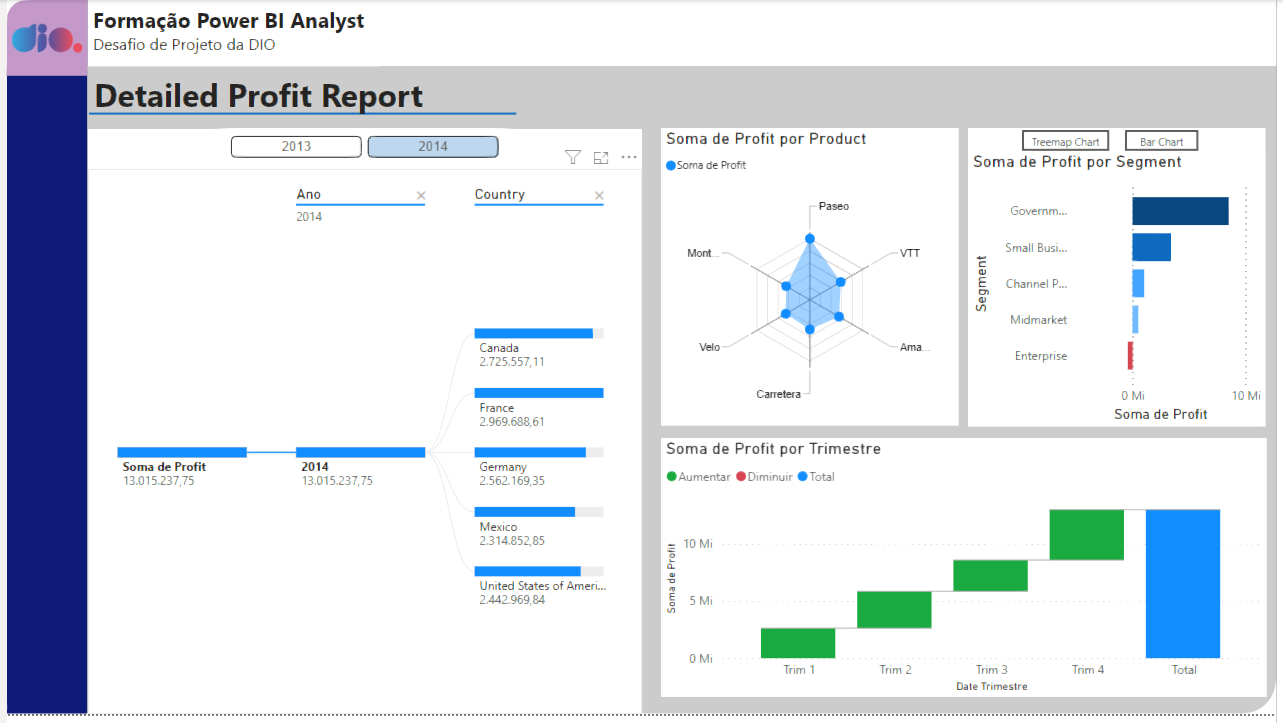

The dashboard page shown, as its layout file describes it:
{"tool":"powerbi","page":{"name":"Página 2","canvas":[1280,720],"ordinal":1},"visuals":[{"type":"shape","title":"Tela cinza de fundo","box":[0,0,1280,720],"z":0},{"type":"shape","box":[0,0,81.5,720],"z":1000},{"type":"shape","box":[0,0,81.5,76.6],"z":2000},{"type":"image","box":[0,0,81.5,76.6],"z":3000},{"type":"shape","box":[81.5,0,1198.5,66.7],"z":4000},{"type":"textbox","box":[81.5,0,293.5,66.7],"z":5000},{"type":"shape","box":[83,100.4,430.9,29.4],"z":5500,"group":"g1"},{"type":"group","id":"g1","title":"Report de Lucro Detalhado","box":[83,68,430.9,62.8],"z":6000},{"type":"textbox","box":[83,68,388.7,62.8],"z":6000,"group":"g1"},{"type":"shape","box":[81.5,129.9,558.8,590.1],"z":7000},{"type":"decompositionTreeVisual","fields":{"Analyze":["Sum(financials.Profit)"],"ExplainBy":["financials.Date.Variation.Hierarquia de datas.Ano","financials.Country"]},"box":[81.5,170.8,558.5,549.7],"z":8000},{"type":"shape","box":[659.6,129.6,300.4,300.4],"z":9000},{"type":"shape","box":[969.8,129.6,300.4,300.4],"z":10000},{"type":"shape","box":[659.6,441.7,610.6,261.1],"z":11000},{"type":"RadarChart1446119667547","fields":{"Y":["Sum(financials.Profit)"],"Category":["financials.Product"]},"box":[659.6,129.6,300.4,300.4],"z":12000},{"type":"waterfallChart","fields":{"Y":["Sum(financials.Profit)"],"Category":["financials.Date.Variation.Hierarquia de datas.Trimestre"]},"box":[659.6,441.7,610.6,261.1],"z":13000},{"type":"ChicletSlicer1448559807354","fields":{"Category":["financials.Date.Variation.Hierarquia de datas.Ano"]},"box":[217.9,129.6,285.6,41.2],"z":14000},{"type":"clusteredBarChart","fields":{"Category":["financials.Segment"],"Y":["Sum(financials.Profit)"]},"box":[970,152,300,278],"z":16625,"group":"g2"},{"type":"actionButton","title":"Botão - Treemap","box":[1024,131,88,21],"z":16750,"group":"g2"},{"type":"actionButton","title":"Botão - Bar","box":[1128,131,74,21],"z":17000,"group":"g2"},{"type":"group","id":"g2","title":"Grupo 1","box":[969.8,131,300.4,299],"z":17001}]}

Visuals, with their boxes in screenshot pixels (x1, y1, x2, y2):
"Tela cinza de fundo" shape: box(3, 0, 1269, 712)
shape: box(3, 0, 84, 712)
shape: box(3, 0, 84, 76)
image: box(3, 0, 84, 76)
shape: box(84, 0, 1269, 66)
textbox: box(84, 0, 374, 66)
shape: box(85, 99, 511, 128)
"Report de Lucro Detalhado" group: box(85, 67, 511, 129)
textbox: box(85, 67, 470, 129)
shape: box(84, 128, 636, 712)
decompositionTreeVisual - Sum(financials.Profit) x financials.Date.Variation.Hierarquia de datas.Ano: box(84, 169, 636, 712)
shape: box(655, 128, 952, 425)
shape: box(962, 128, 1259, 425)
shape: box(655, 437, 1259, 695)
RadarChart1446119667547 - Sum(financials.Profit) x financials.Product: box(655, 128, 952, 425)
waterfallChart - Sum(financials.Profit) x financials.Date.Variation.Hierarquia de datas.Trimestre: box(655, 437, 1259, 695)
ChicletSlicer1448559807354 - financials.Date.Variation.Hierarquia de datas.Ano: box(219, 128, 501, 169)
clusteredBarChart - financials.Segment x Sum(financials.Profit): box(962, 150, 1259, 425)
"Botão - Treemap" actionButton: box(1016, 129, 1103, 150)
"Botão - Bar" actionButton: box(1118, 129, 1192, 150)
"Grupo 1" group: box(962, 129, 1259, 425)
